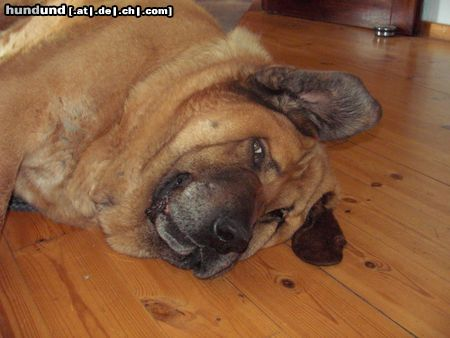mastin_espanol: (0, 0, 384, 278)
